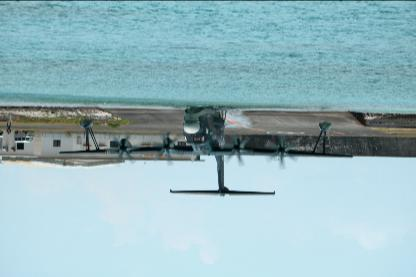Tu95: (60, 106, 354, 198)
